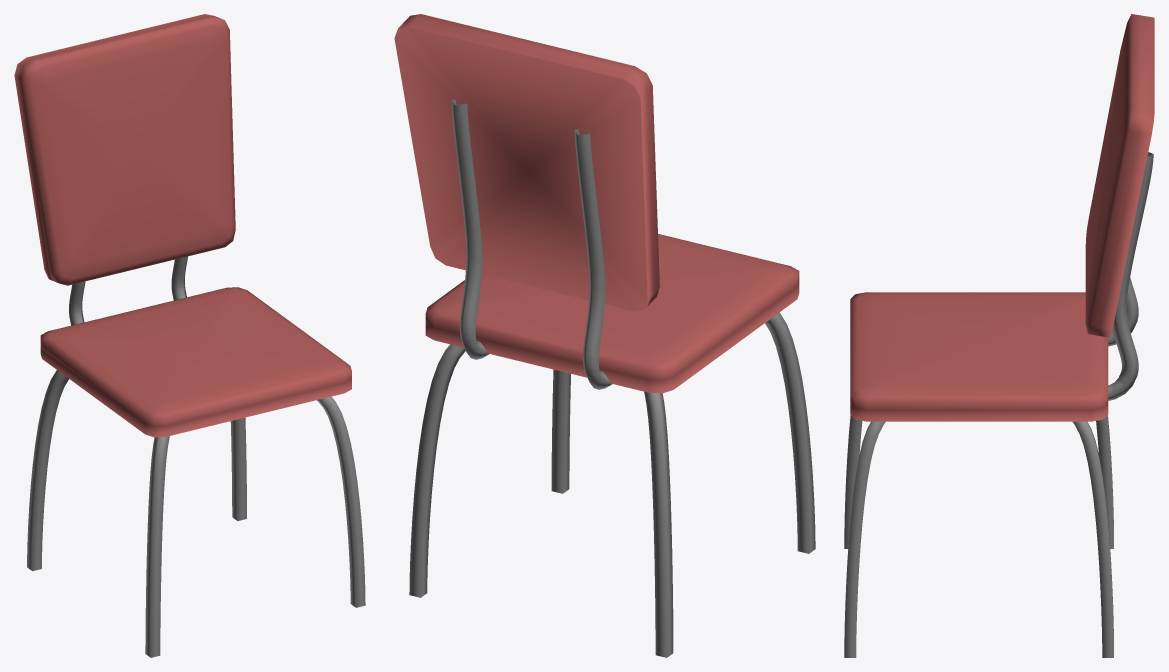
The model's file is Chair.dae.
3 renders of one model, left to right at view 1: azimuth 30°, elevation 25°; view 2: azimuth 150°, elevation 25°; view 3: azimuth 270°, elevation 25°, orthographic. The views are drawn at different scales.
Visible parts, largest first — view 1: chair; view 2: chair; view 3: chair.
Boxes of the visible parts, x1,y1,x2,y2 form: chair: [14, 14, 365, 657]; chair: [394, 14, 815, 657]; chair: [844, 14, 1154, 657].
Size of the model in its own units: 0.4184 by 0.4812 by 0.9221.
